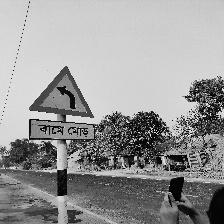Left-Turn: (28, 66, 97, 142)
